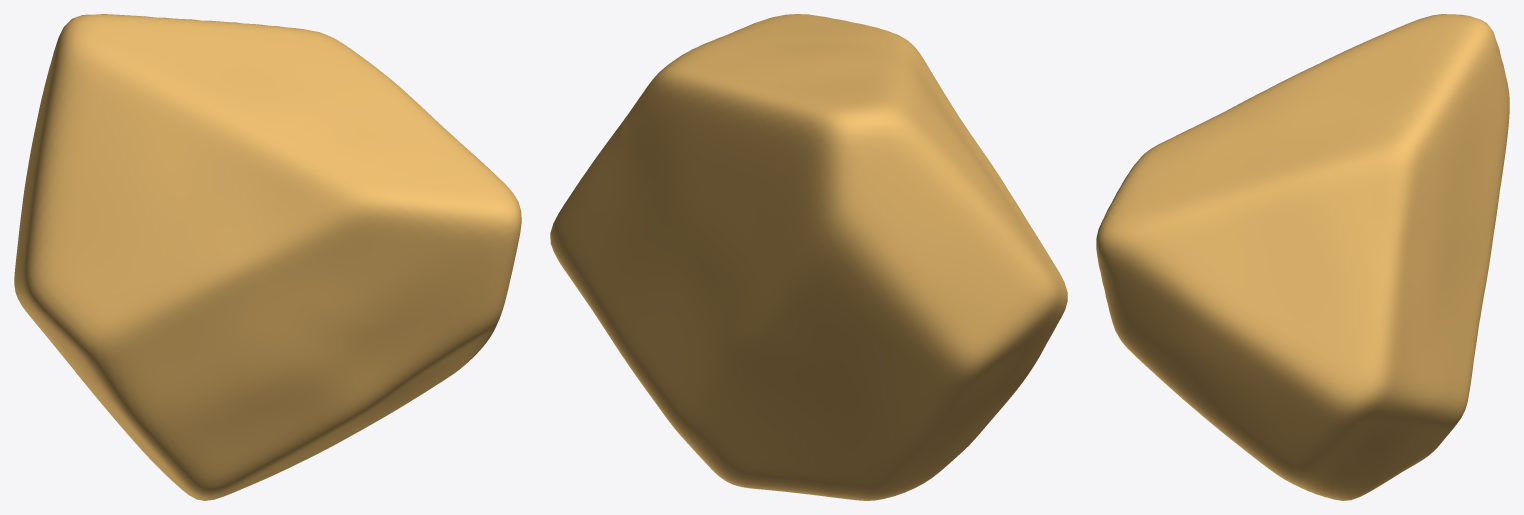
File: nugget-02.glb
3 renders of one model, left to right at view 1: azimuth 30°, elevation 25°; view 2: azimuth 150°, elevation 25°; view 3: azimuth 270°, elevation 25°, orthographic. The views are drawn at different scales.
Parts seen in each view (by area): view 1: nugget-02; view 2: nugget-02; view 3: nugget-02.
Part boxes in pixels (box(x1,y1,x2,y2)): nugget-02: box(14, 14, 521, 500); nugget-02: box(550, 14, 1067, 500); nugget-02: box(1096, 14, 1509, 500).
Size of the model in its own units: 3.7 by 3.3 by 3.05.
